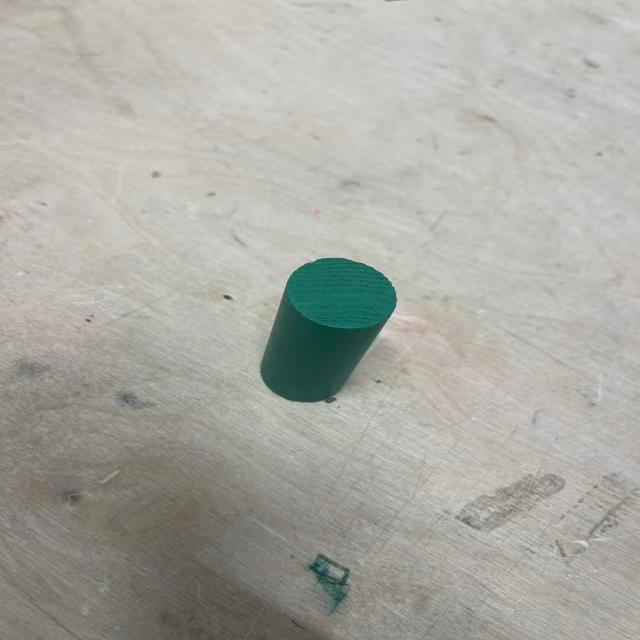green_cylinder: (260, 257, 397, 405)
